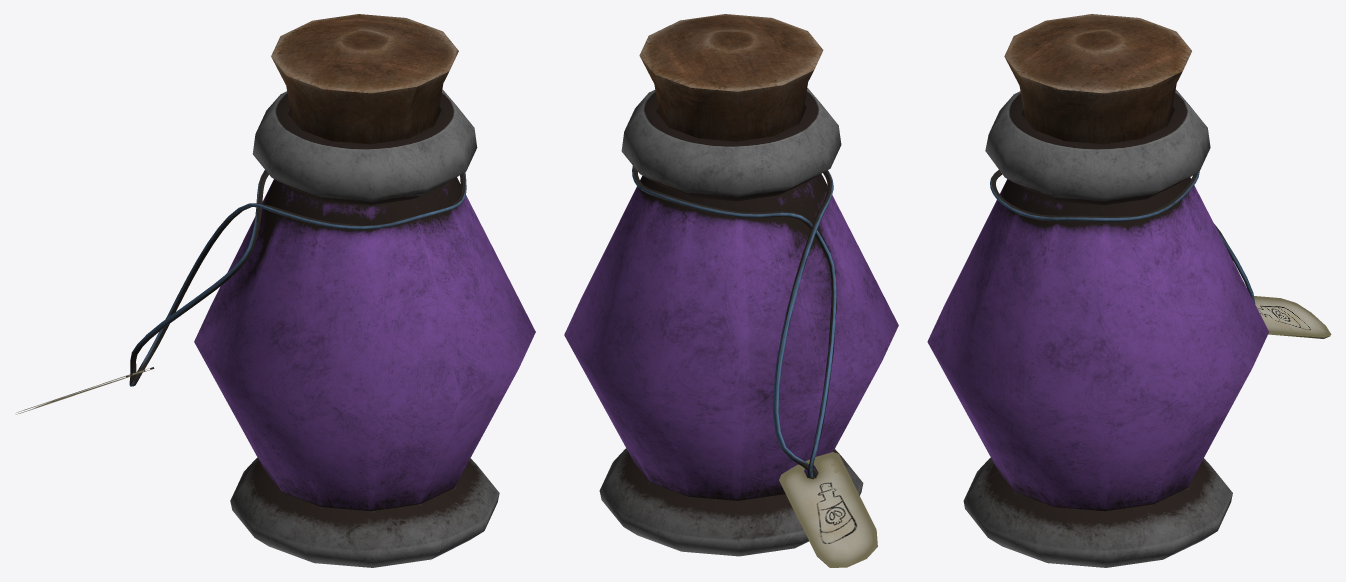
The model's file is flask_potion.glb.
The picture shows the model from 3 angles, left to right: view 1: azimuth 30°, elevation 25°; view 2: azimuth 150°, elevation 25°; view 3: azimuth 270°, elevation 25°; orthographic projection. The views are drawn at different scales.
Parts seen in each view (by area): view 1: Object_4, Object_6; view 2: Object_4, Object_8, Object_6; view 3: Object_4, Object_8, Object_6.
Part boxes in pixels (x1,y1,x2,y2): Object_4: [194, 14, 535, 567]; Object_6: [129, 170, 466, 386]; Object_4: [564, 14, 898, 556]; Object_8: [779, 452, 877, 567]; Object_6: [632, 166, 836, 478]; Object_4: [927, 14, 1268, 567]; Object_8: [1254, 296, 1331, 338]; Object_6: [990, 170, 1255, 303].
Size of the model in its own units: 2.28 by 2.63 by 2.01.
1 material, 1 textured.
